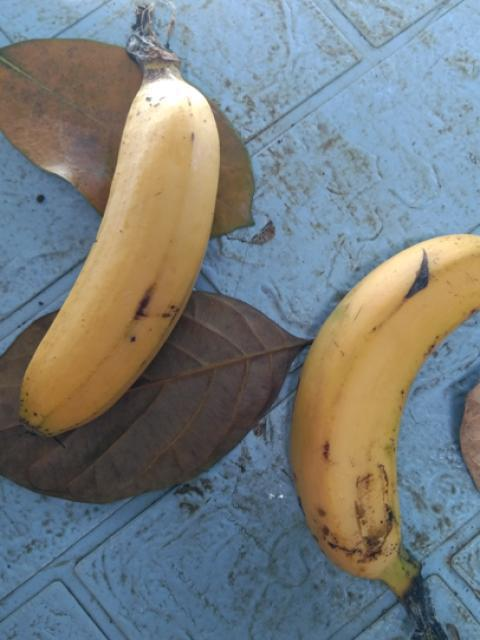freshripe: (1, 67, 236, 473)
ripe: (270, 227, 479, 608)
